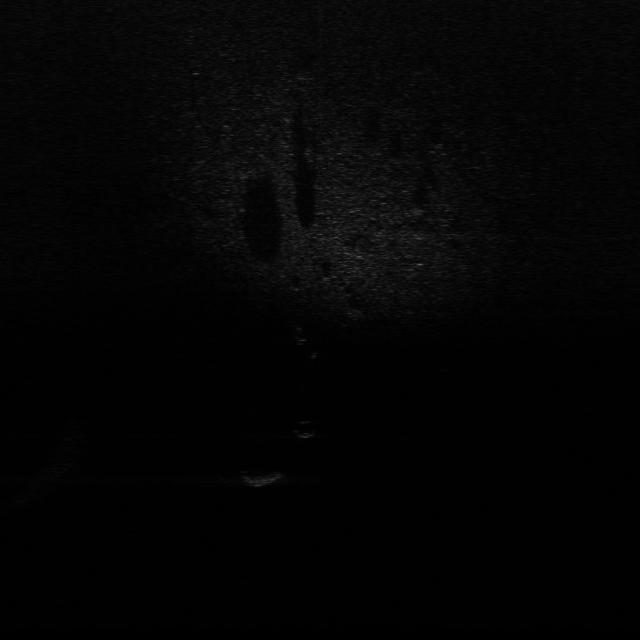ball: (294, 418, 320, 440)
human body: (288, 320, 321, 361)
square cage: (242, 466, 292, 488)
